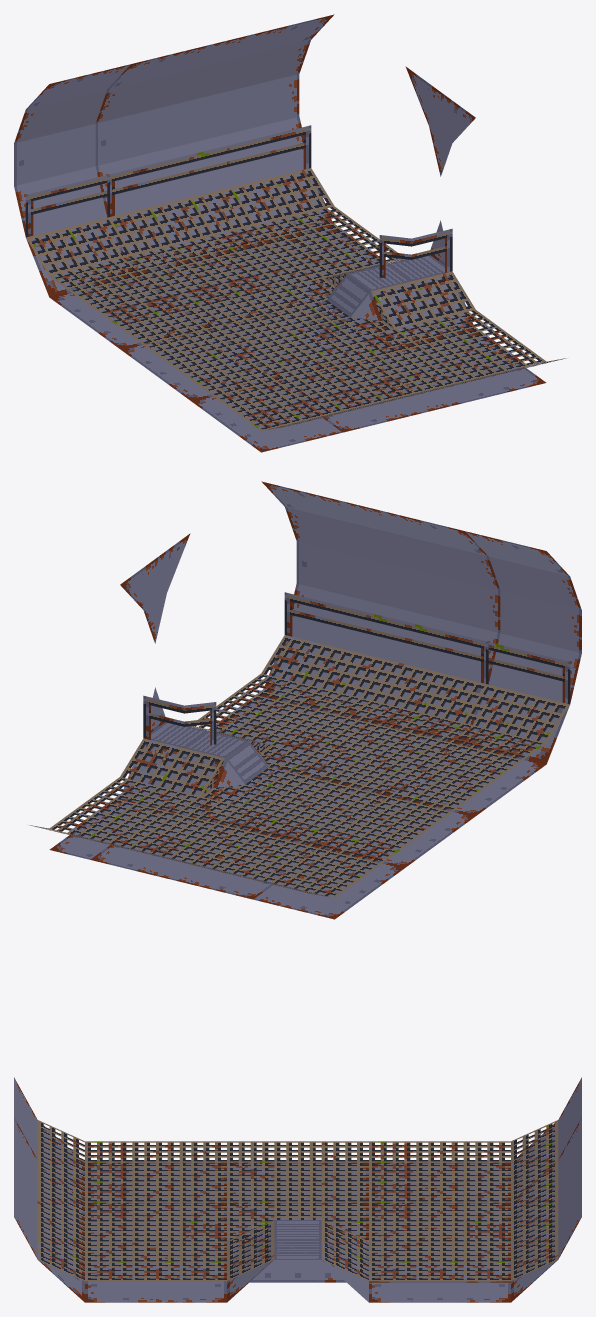
Rendered from Internal-2UJunct.gltf.
3 views of the same model, one above another, from view 1: azimuth 30°, elevation 25°; view 2: azimuth 150°, elevation 25°; view 3: azimuth 270°, elevation 25° (orthographic).
Visible parts, largest first — view 1: Internal-2UJunct; view 2: Internal-2UJunct; view 3: Internal-2UJunct.
Boxes of the visible parts, box(x1,y1,x2,y2) form: Internal-2UJunct: box(14, 14, 566, 452); Internal-2UJunct: box(29, 481, 581, 919); Internal-2UJunct: box(14, 1077, 581, 1302).
Size of the model in its own units: 3.5 by 2.5 by 6.
1 material, 1 textured.
